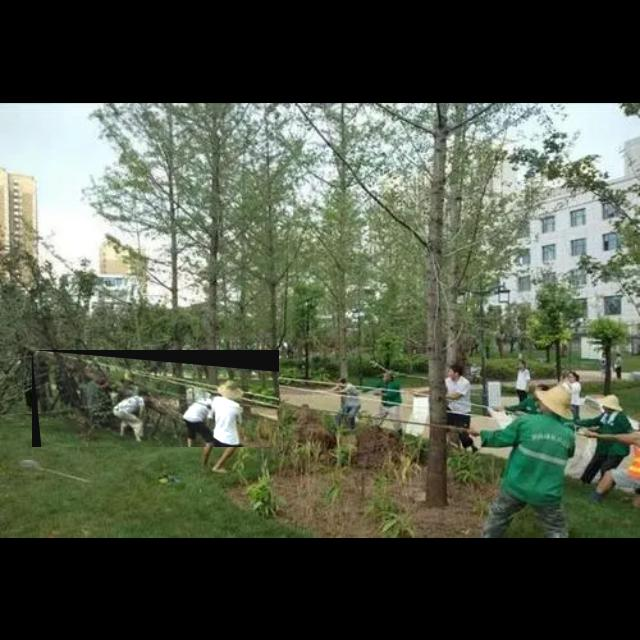Fallen Tree: (32, 350, 280, 448)
